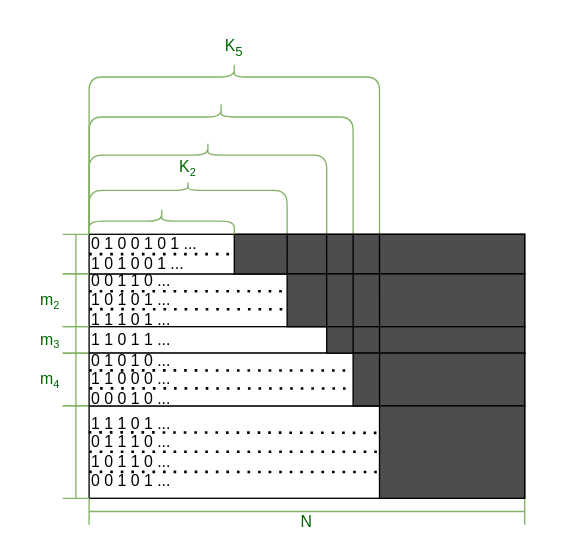
The diagram is 573 pixels wide and 560 high, and some of its shapes have lost their labels. The shapes that lost their labels are listed below. From the top down, each one's box as (x1, y1, x2, y2) in pixels, then its label:
(88, 141, 327, 234): K 3
(88, 101, 353, 234): K 4
(88, 207, 234, 234): K 1
(61, 233, 89, 274): m 1
(61, 405, 89, 498): m 5
